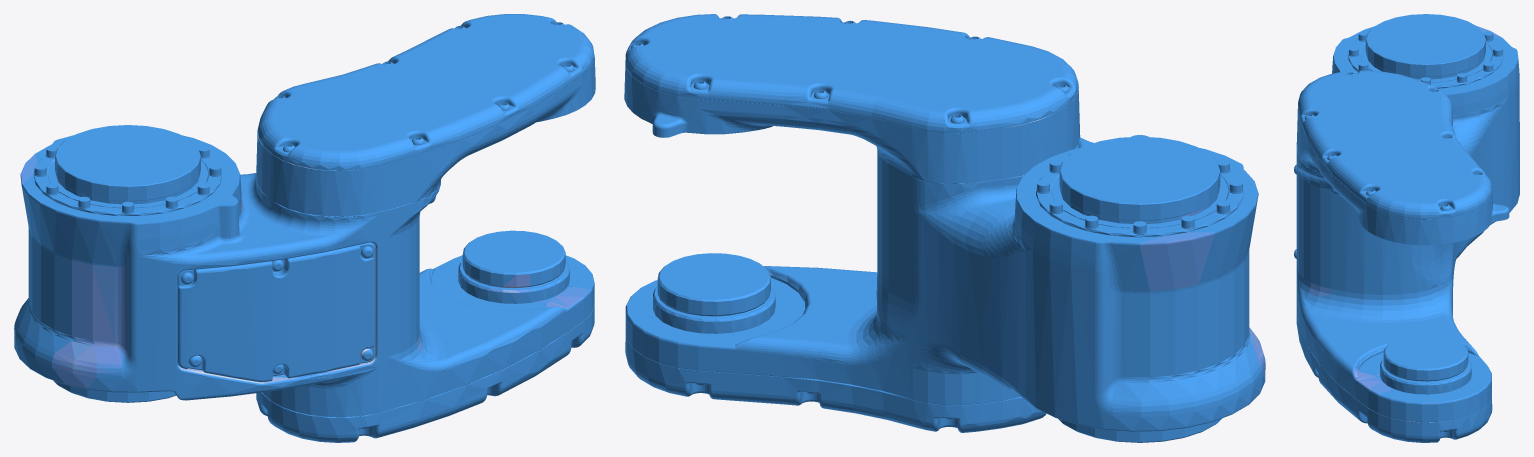
The model's file is YaskawaGP4Link2.dae.
The picture shows the model from 3 angles, left to right: view 1: azimuth 30°, elevation 25°; view 2: azimuth 150°, elevation 25°; view 3: azimuth 270°, elevation 25°; orthographic projection. The views are drawn at different scales.
Visible parts, largest first — view 1: YaskawaGP4Link2; view 2: YaskawaGP4Link2; view 3: YaskawaGP4Link2.
Part boxes in pixels (left/top/right/bottom): YaskawaGP4Link2: left=14, top=14, right=595, bottom=442; YaskawaGP4Link2: left=624, top=14, right=1265, bottom=442; YaskawaGP4Link2: left=1294, top=14, right=1519, bottom=442.
Size of the model in its own units: 0.3741 by 0.1598 by 0.1865.
